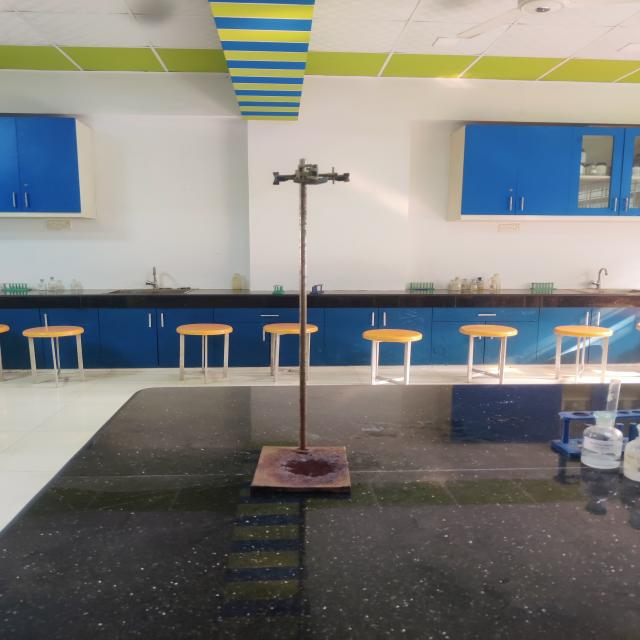Burette_Stands: (236, 148, 388, 512)
